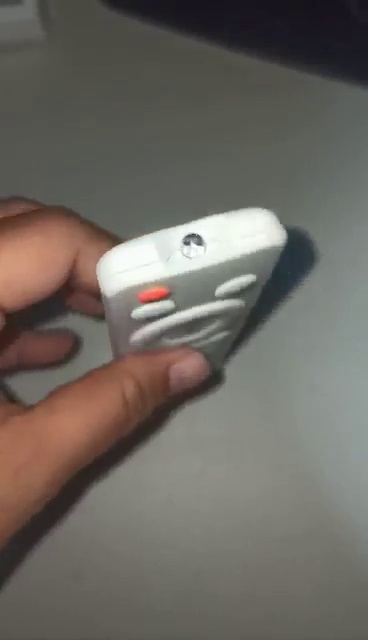remote: (91, 204, 291, 367)
